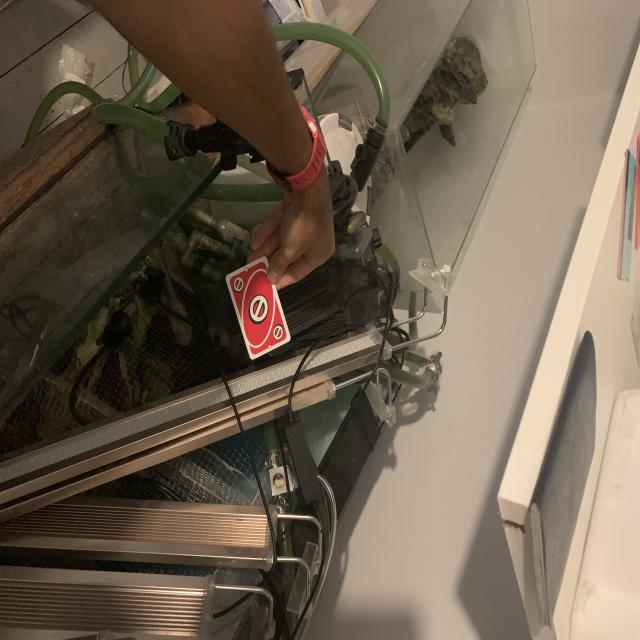lredskip-20: (231, 275, 247, 293)
